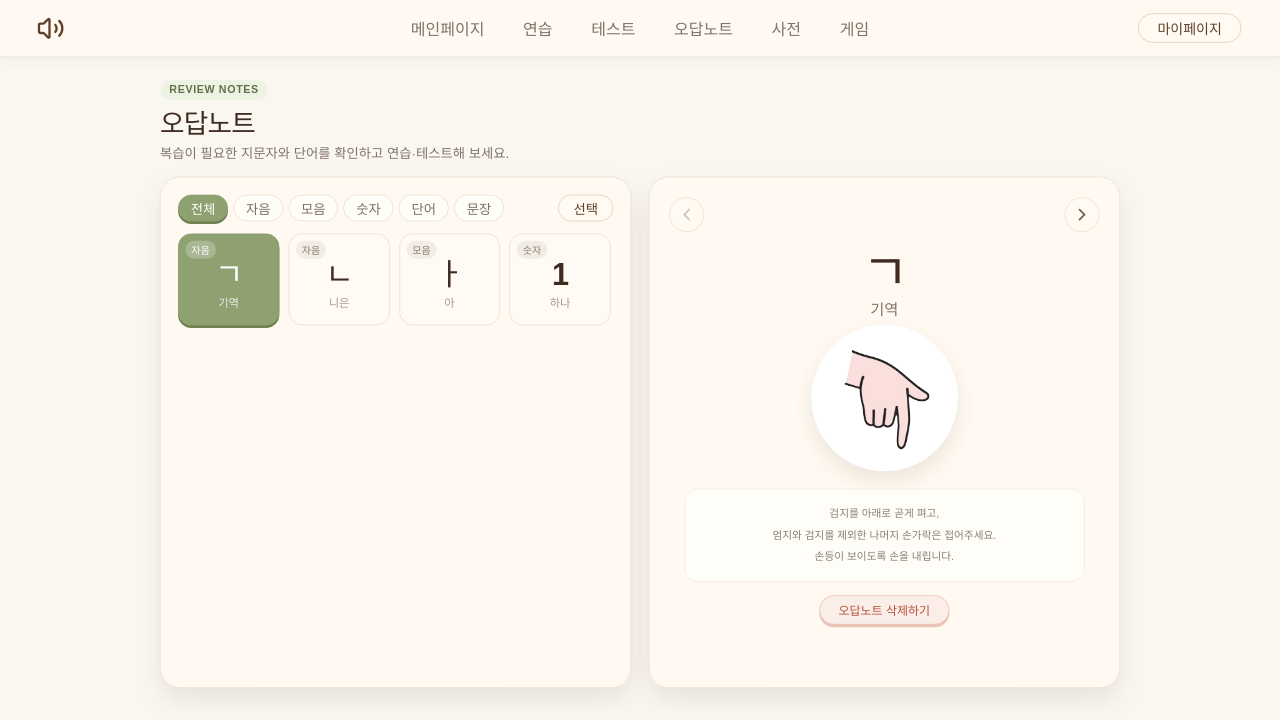
Test: ReviewNotesPage 다중 선택 › 선택 모드에서 카드를 고르면 액션 바가 나타난다
This screenshot has width=1280, height=720.
Click the button "선택": click(586, 208) [558,195,613,221]
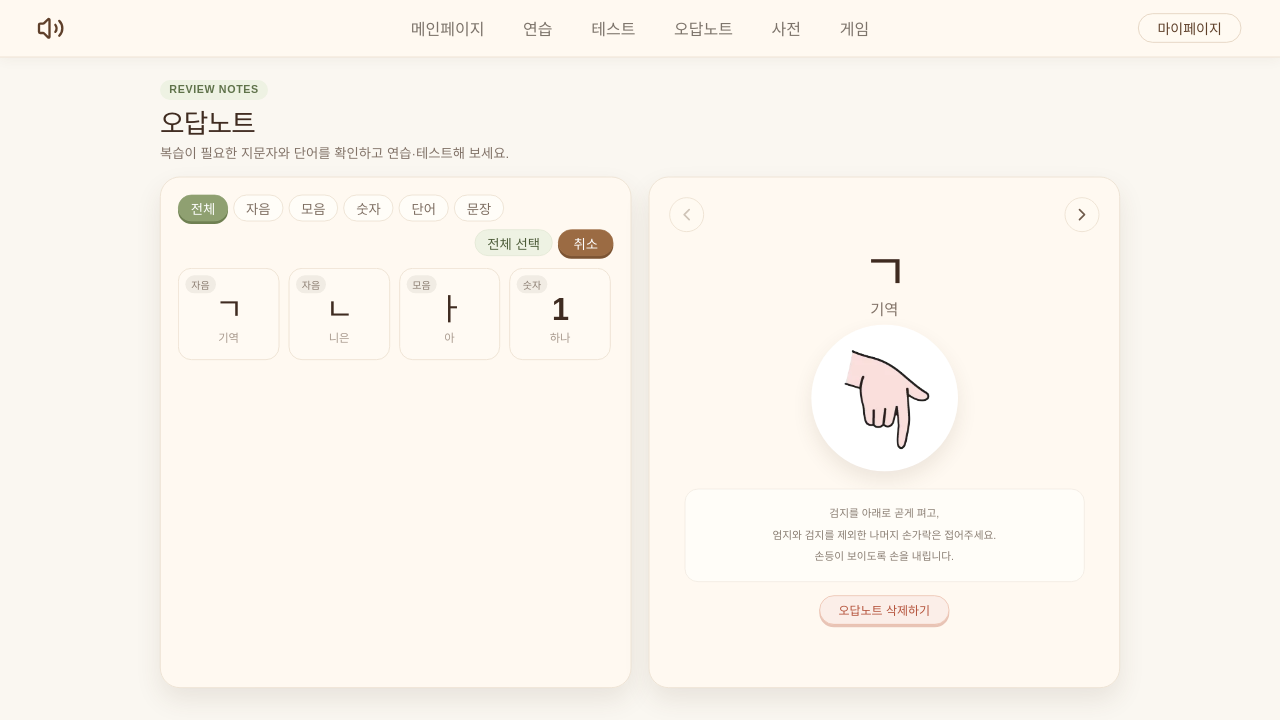
Click the button "자음 ㄱ 기역": click(229, 314) [178,268,279,360]
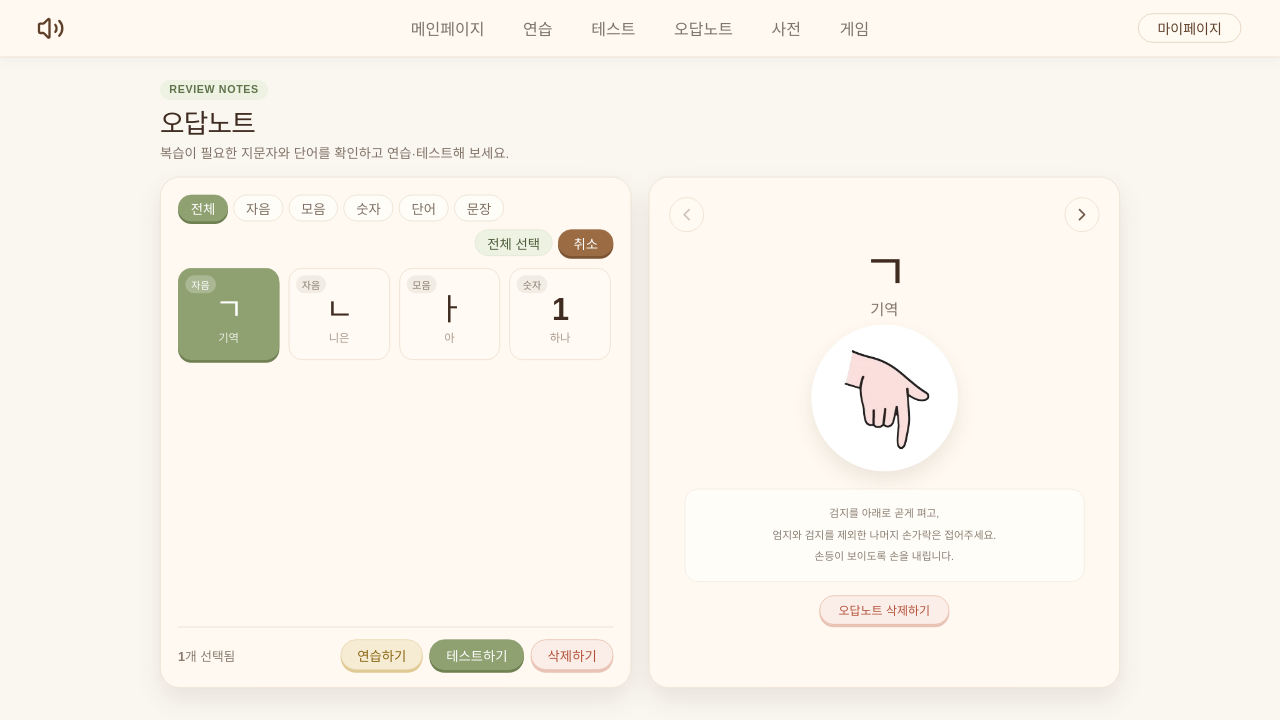
Click the button "자음 ㄴ 니은": click(339, 314) [288,268,390,360]
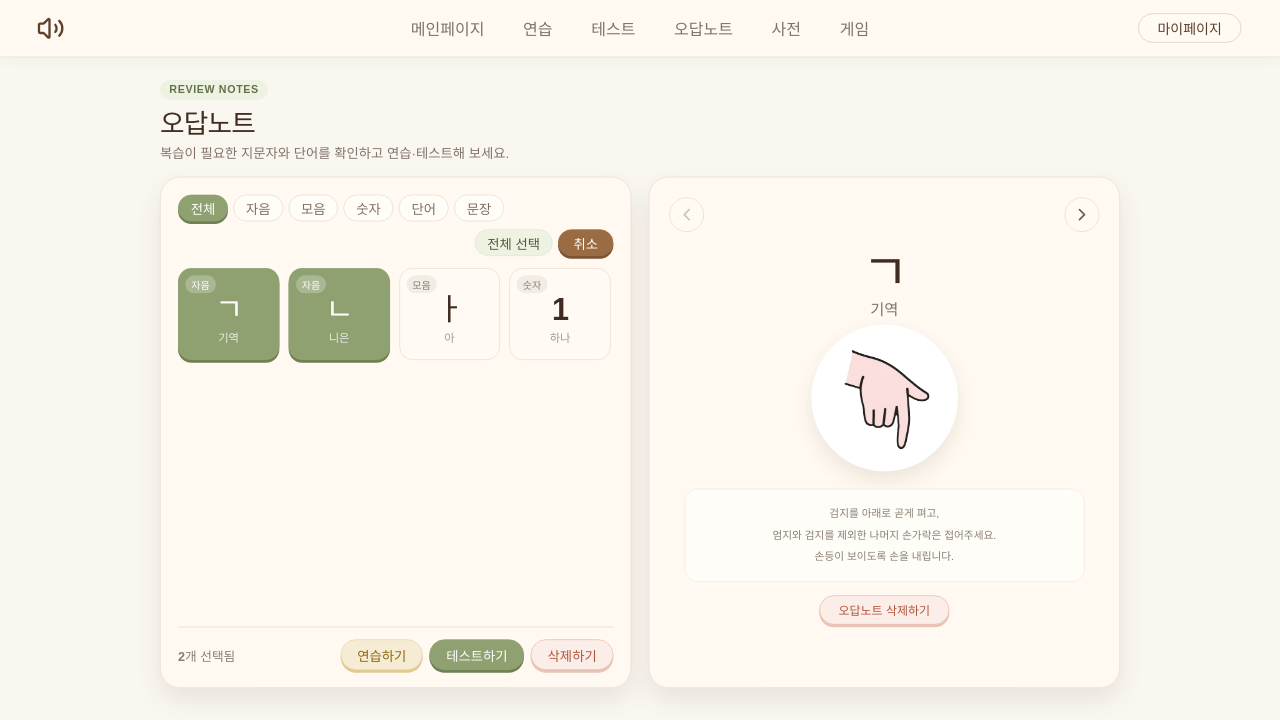
Now the button "연습하기" is shown, box [340,639,423,670]
Now the button "테스트하기" is shown, box [430,639,524,670]
Now the text "2개 선택됨" is shown, box [178,646,235,664]
